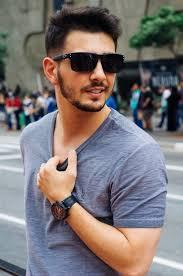sunglasses: (55, 48, 135, 75)
